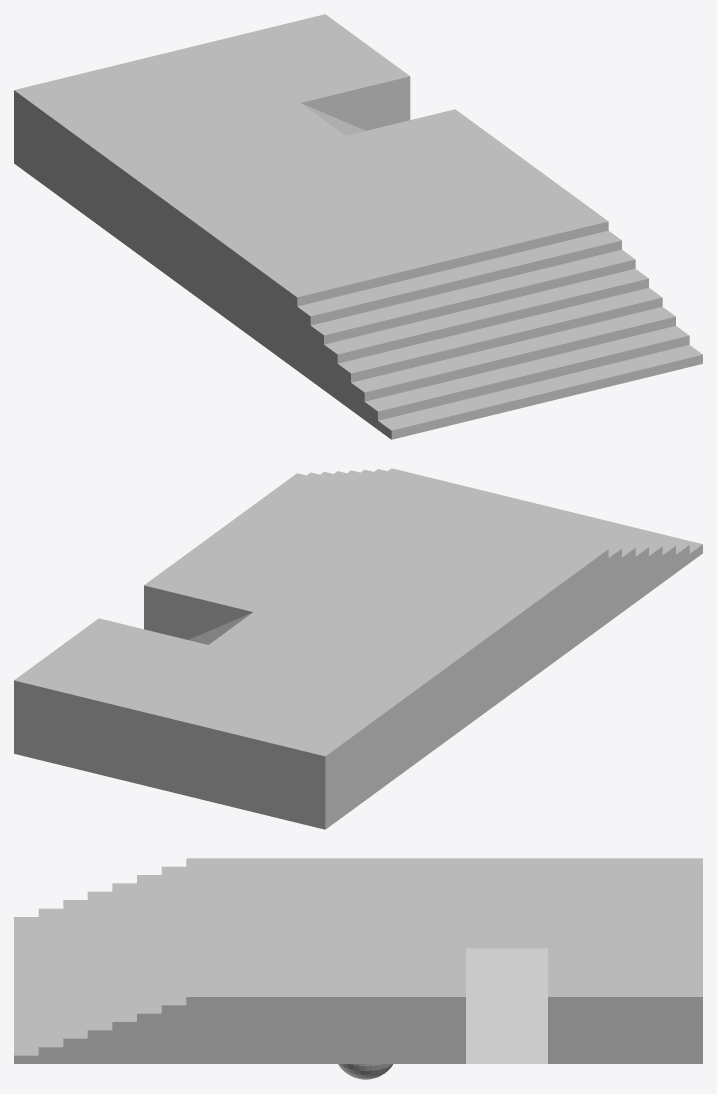
File: promenade.fbx
3 views of the same model, one above another, from view 1: azimuth 30°, elevation 25°; view 2: azimuth 150°, elevation 25°; view 3: azimuth 270°, elevation 25° (orthographic). The views are drawn at different scales.
Visible parts, largest first — view 1: Promenade; view 2: Promenade; view 3: Promenade.
Boxes of the visible parts, box(x1,y1,x2,y2) form: Promenade: box(14, 14, 702, 439); Promenade: box(14, 468, 702, 829); Promenade: box(14, 858, 702, 1079).
Bounding box in the file's own units: 1000 × 507 × 2100.
